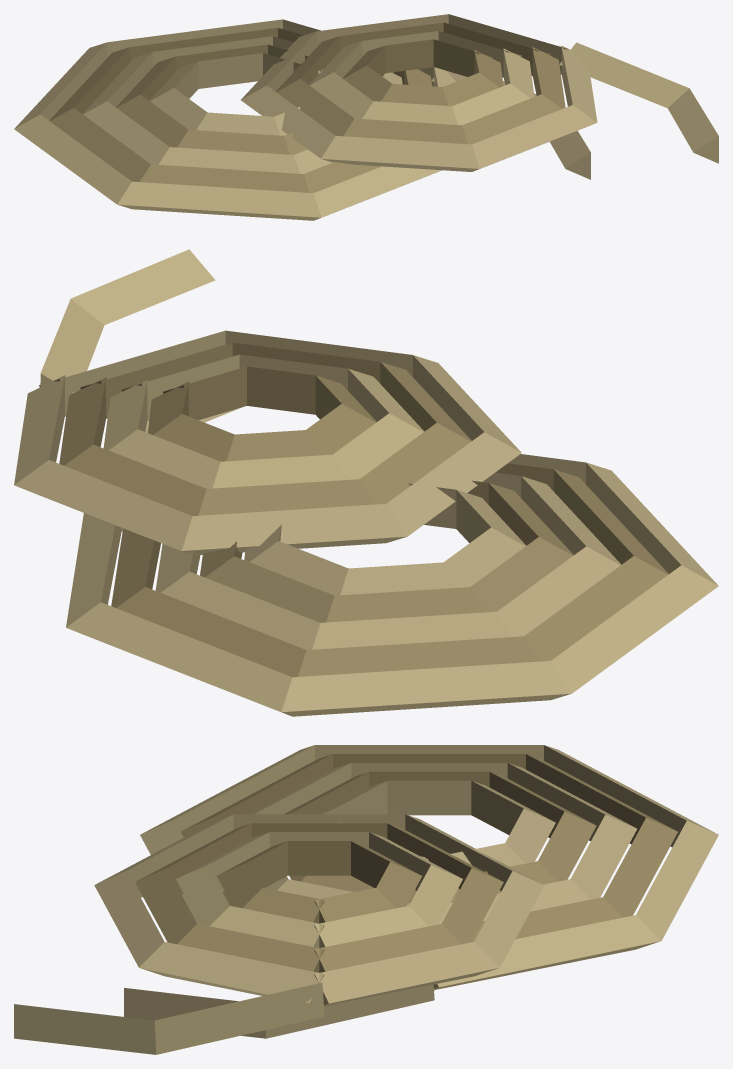
The model's file is storage_flax_rope.glb.
The picture shows the model from 3 angles, top to bottom: view 1: azimuth 30°, elevation 25°; view 2: azimuth 150°, elevation 25°; view 3: azimuth 270°, elevation 25°; orthographic projection. The views are drawn at different scales.
Parts seen in each view (by area): view 1: storage_flax_rope; view 2: storage_flax_rope; view 3: storage_flax_rope.
Part boxes in pixels (x1=…): storage_flax_rope: x1=14, y1=14, x2=718, y2=220; storage_flax_rope: x1=14, y1=249, x2=718, y2=716; storage_flax_rope: x1=14, y1=745, x2=718, y2=1054.
Bounding box in the file's own units: 1.35 × 0.2013 × 1.28.
